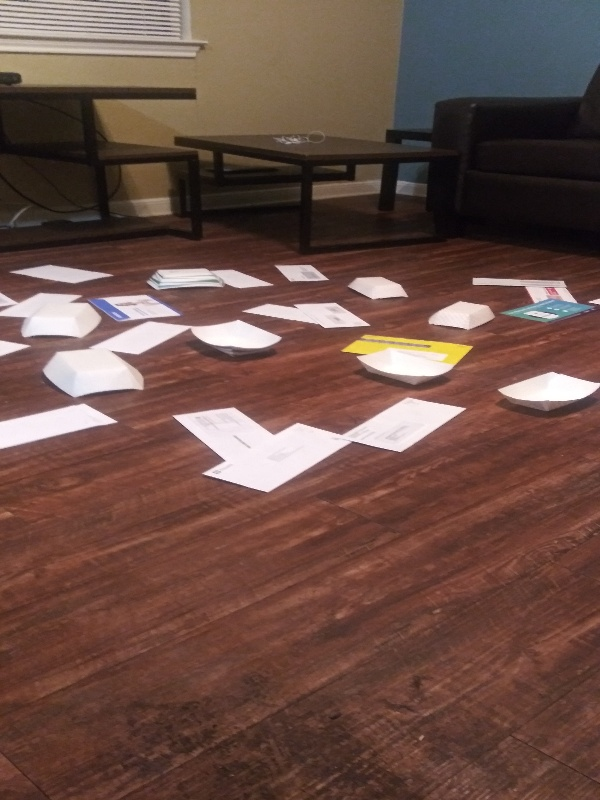plate: (38, 347, 149, 403), (493, 367, 600, 417), (352, 345, 461, 389), (187, 316, 286, 363), (14, 298, 105, 340), (145, 262, 228, 297), (423, 298, 501, 334), (346, 273, 412, 301)
